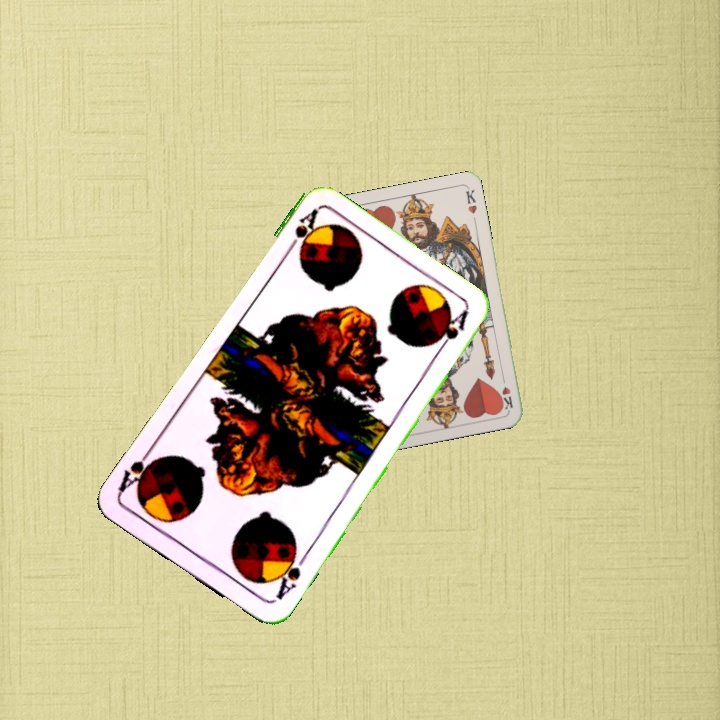HK: (497, 371, 516, 412)
SA: (270, 545, 310, 603), (281, 205, 321, 258)
